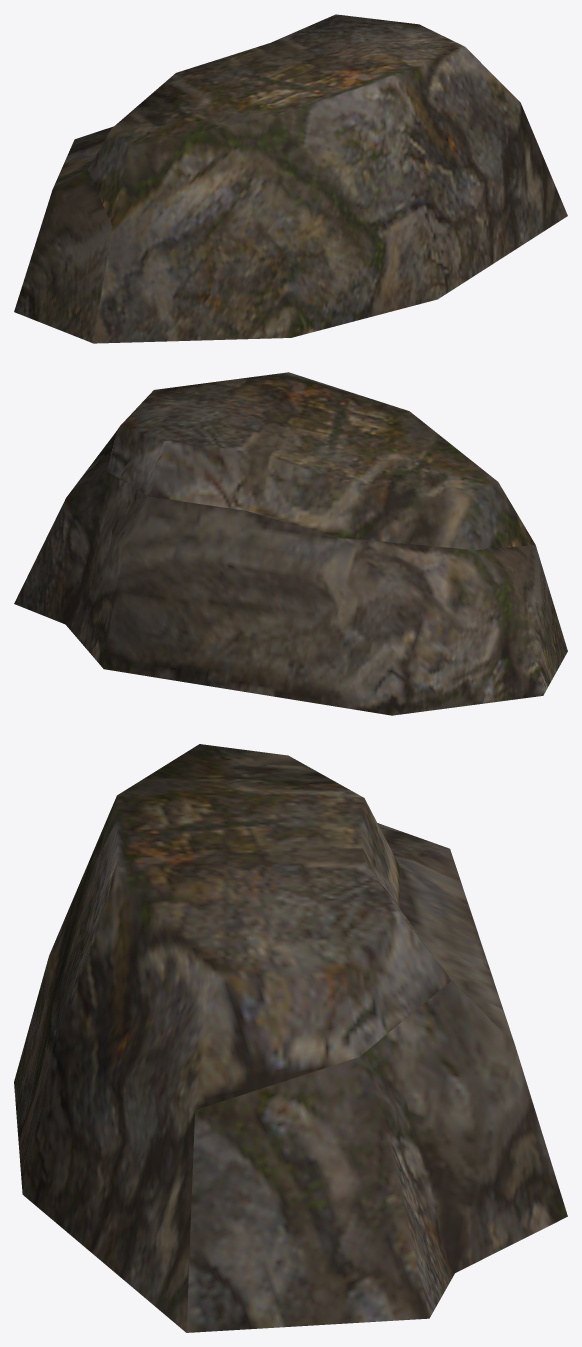
Rendered from Rock07.FBX.
The picture shows the model from 3 angles, top to bottom: view 1: azimuth 30°, elevation 25°; view 2: azimuth 150°, elevation 25°; view 3: azimuth 270°, elevation 25°; orthographic projection. The views are drawn at different scales.
Parts seen in each view (by area): view 1: Rock07; view 2: Rock07; view 3: Rock07.
Part boxes in pixels (x1,y1,x2,y2): Rock07: [14, 14, 567, 343]; Rock07: [14, 372, 567, 715]; Rock07: [14, 744, 567, 1332].
Bounding box in the file's own units: 208 × 78.39 × 125.
